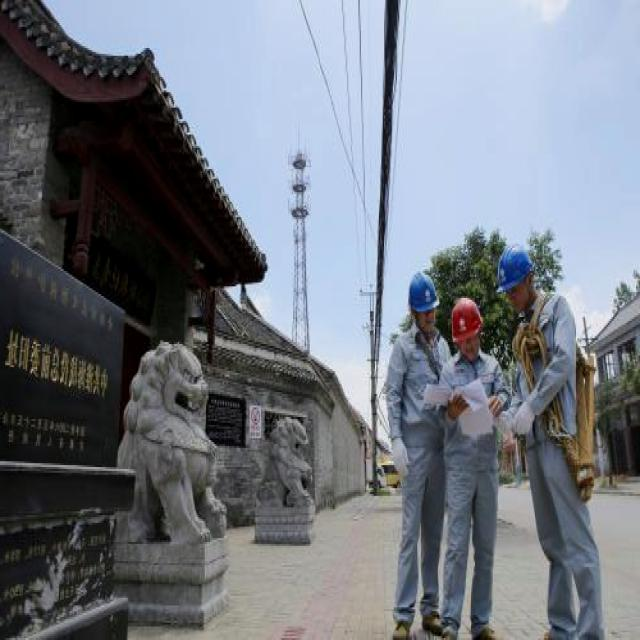face_nomask: (457, 327, 484, 371), (506, 277, 535, 317), (414, 308, 438, 344)
hand_glove: (389, 430, 415, 480), (507, 398, 536, 440)
hand_noglove: (447, 390, 472, 427), (486, 390, 503, 419)
head_helmet: (449, 294, 483, 338), (407, 271, 440, 313), (493, 250, 527, 288)
person: (501, 227, 579, 621), (385, 269, 444, 640), (448, 294, 499, 632)
